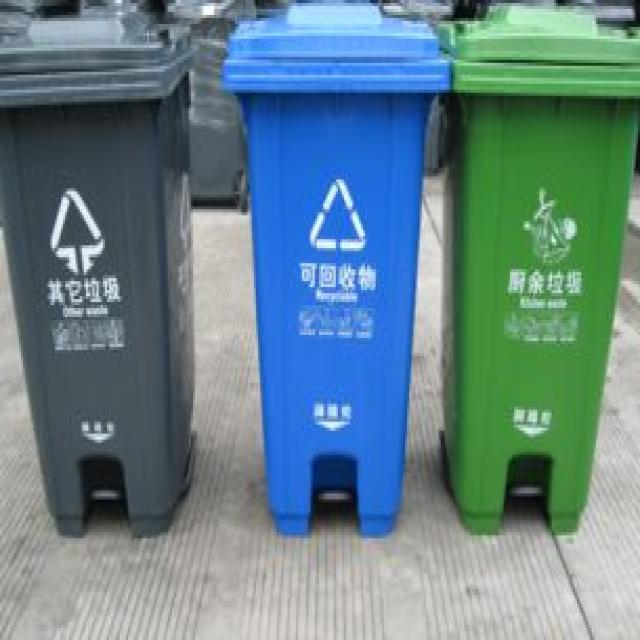garbage_bin: (220, 0, 446, 532), (436, 3, 638, 532), (0, 15, 193, 535)
